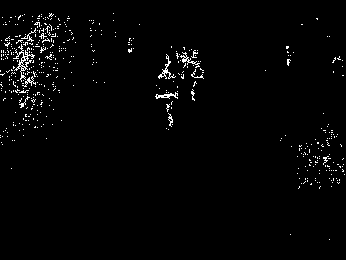person: (155, 51, 180, 131)
